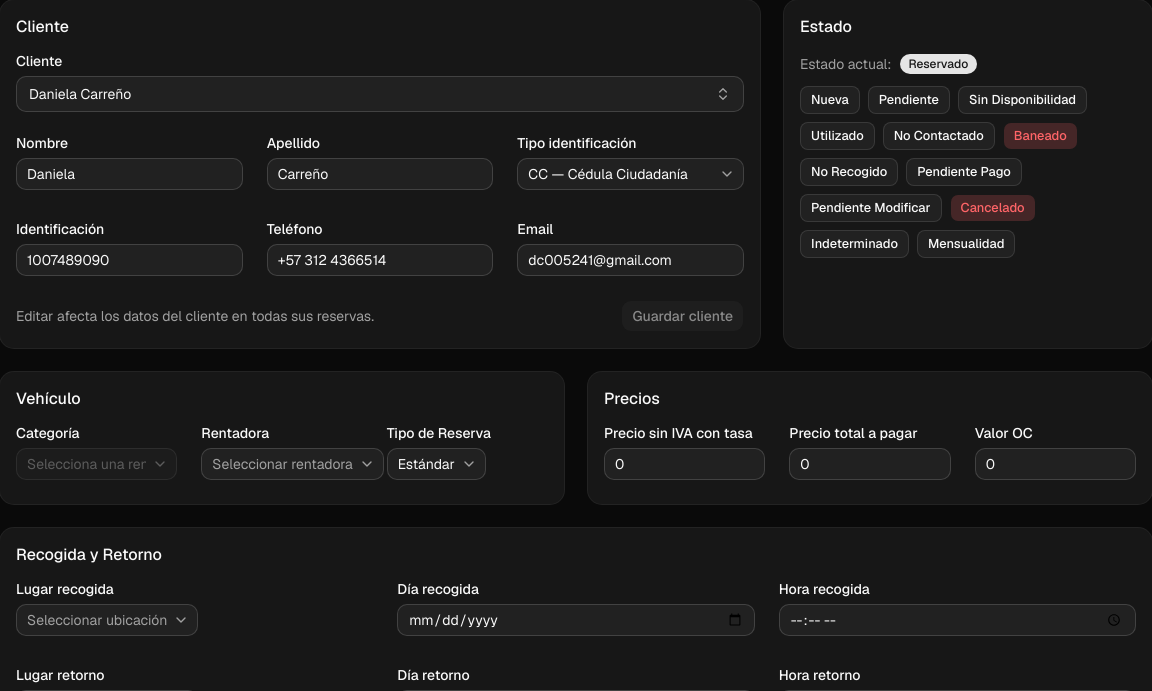
Test: ReservationForm layout › persists the contact edit, resets dirty, and refreshes
The width and height of the screenshot is (1152, 691).
Replace the text in the field labelled "Email" with "nuevo@mail.com": (631, 260) [517,244,744,276]
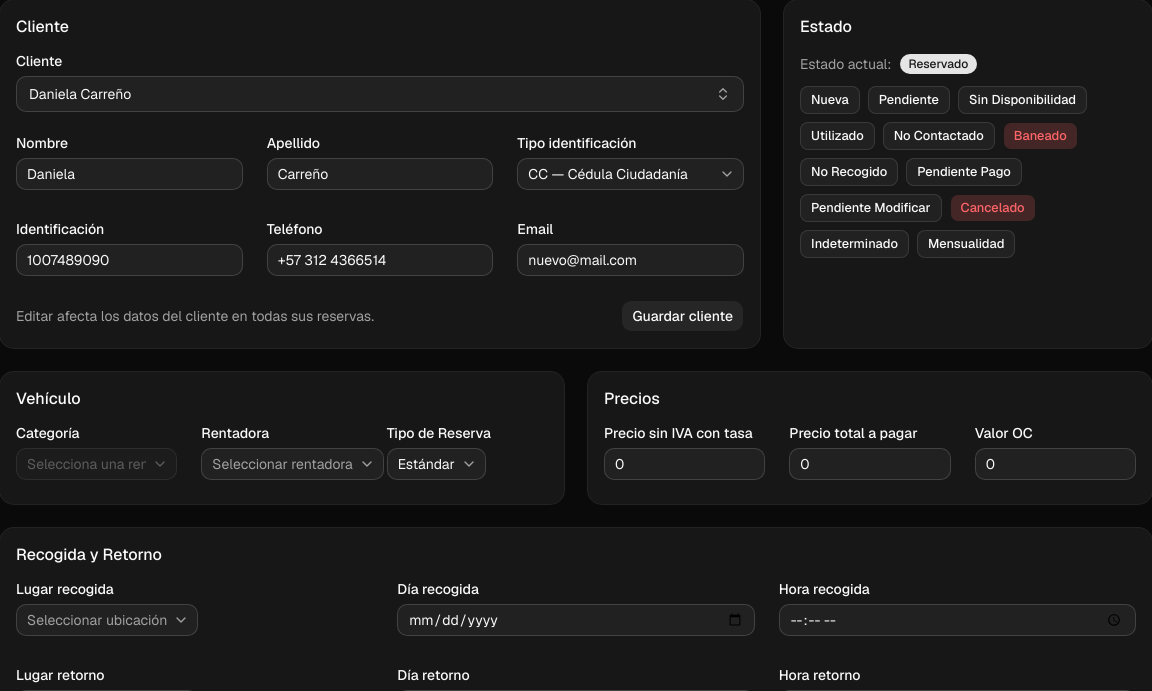
Expected: the button "Guardar cliente" is enabled
Click the button "Guardar cliente": (683, 316) [622,300,744,332]
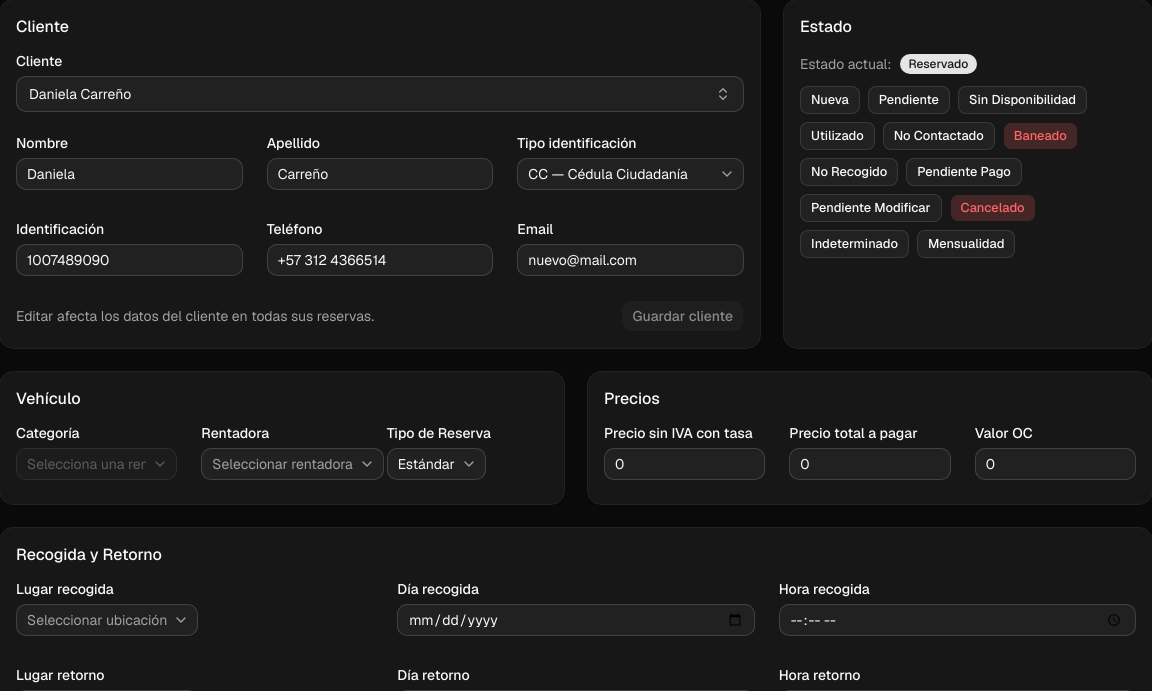
Expected: the button "Guardar cliente" is disabled, [622,300,744,332]
